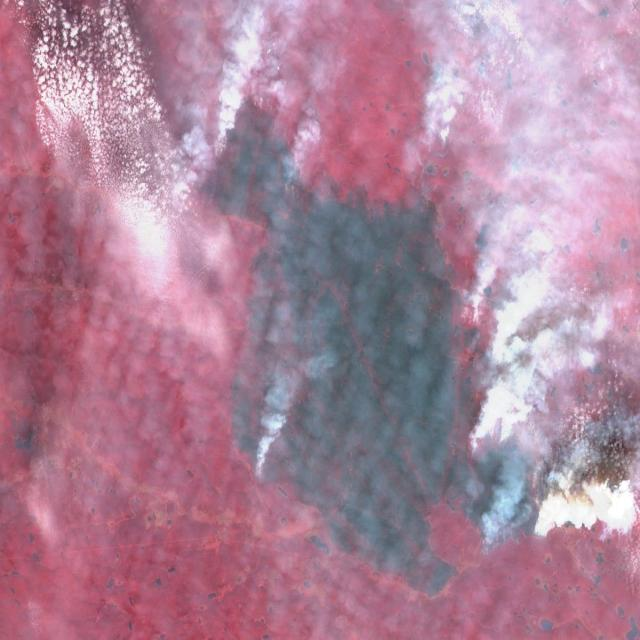fire: (172, 91, 310, 237), (464, 423, 552, 556), (412, 106, 455, 178), (486, 314, 526, 382), (251, 454, 274, 492)
